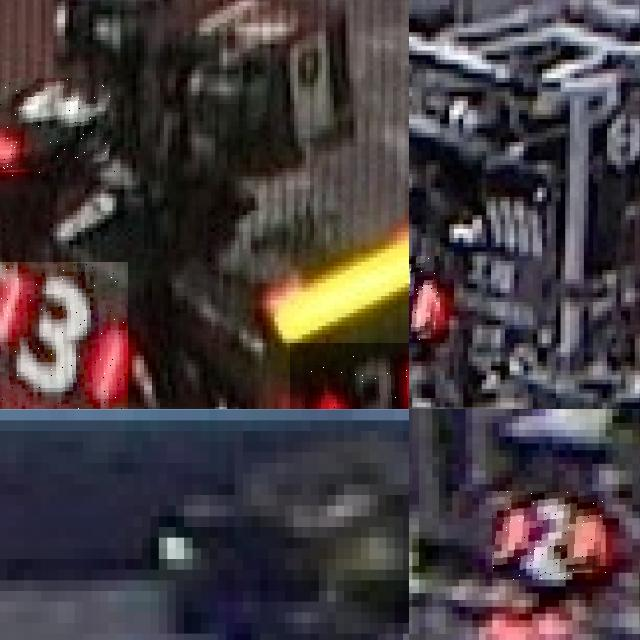R2: (492, 491, 606, 580), (409, 256, 440, 343)
R3: (0, 262, 128, 409), (0, 78, 116, 176), (290, 342, 409, 409)
